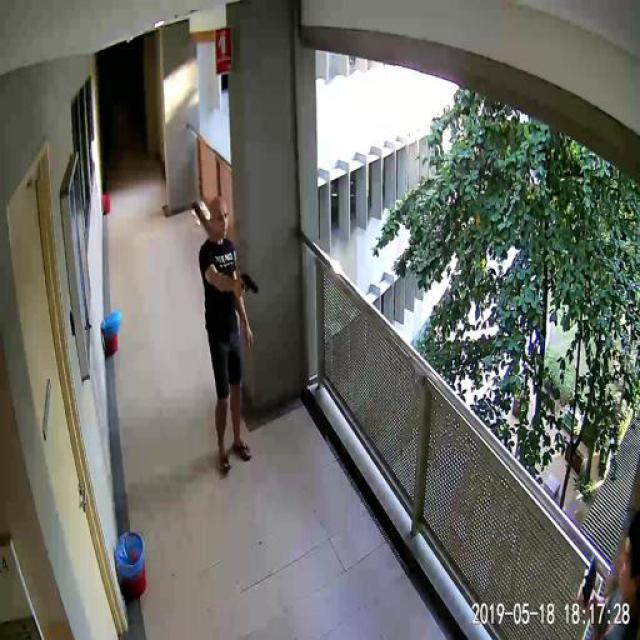Gun: (236, 270, 256, 298)
